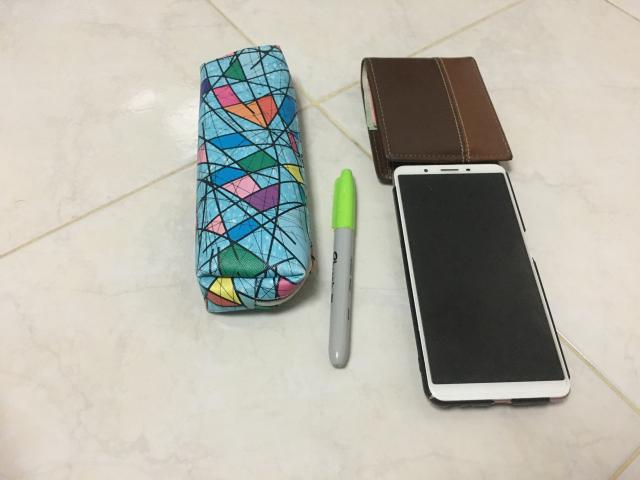Mobile phone: (394, 165, 570, 406)
Pen: (329, 169, 355, 368)
Wallet: (361, 58, 513, 184)
